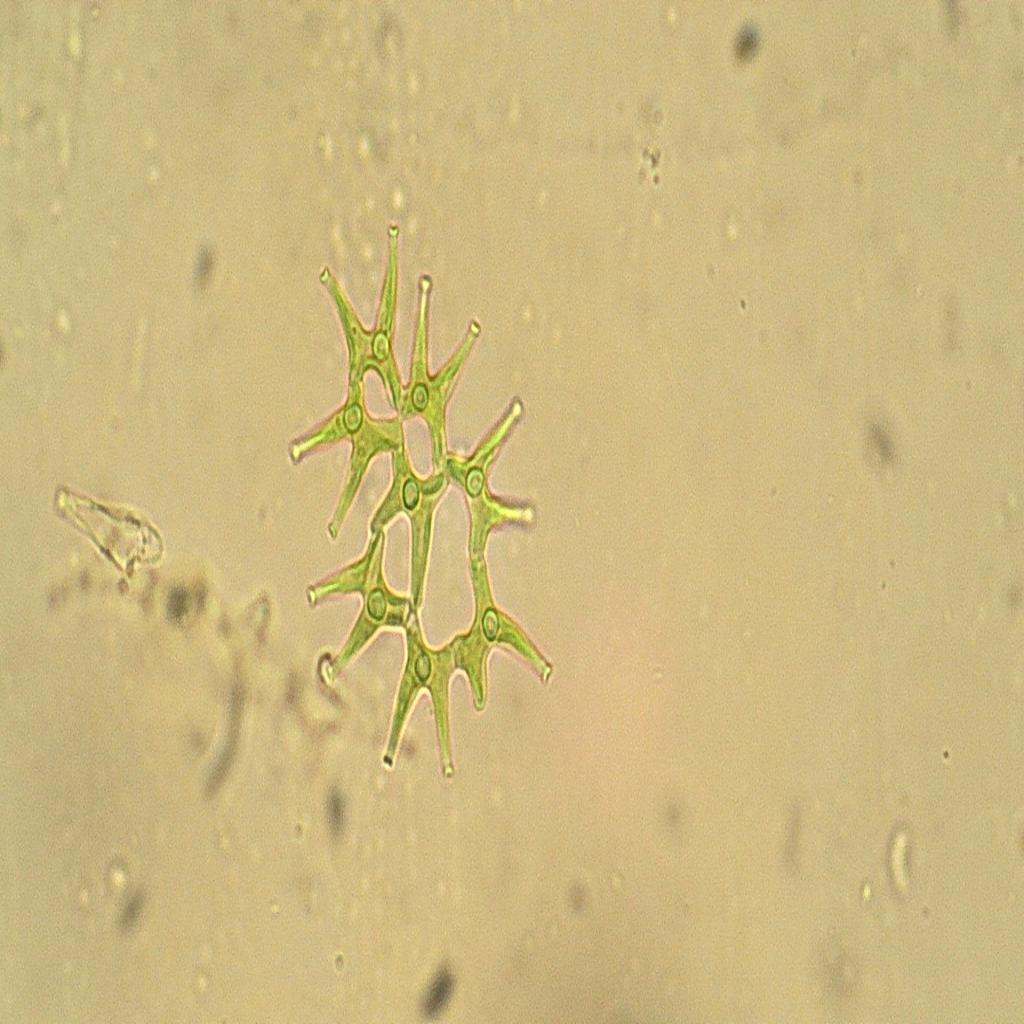Pediastrum_CFI: (289, 204, 569, 800)
